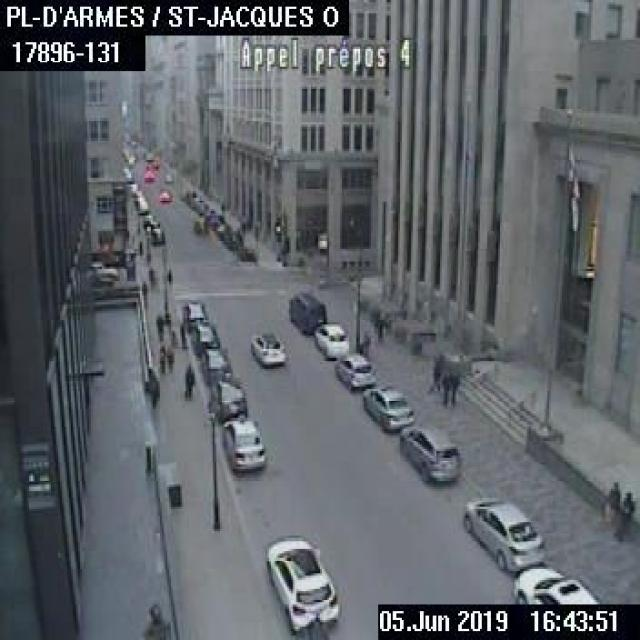pedestrian: (604, 476, 619, 530), (616, 491, 632, 540), (176, 318, 188, 349), (373, 311, 385, 342), (428, 354, 438, 390), (448, 372, 458, 406), (439, 370, 447, 405), (184, 364, 192, 398), (359, 330, 369, 352), (146, 264, 154, 289), (155, 314, 162, 340), (158, 343, 164, 373), (164, 264, 172, 286), (169, 328, 176, 347), (219, 198, 224, 213)
vehicle: (262, 533, 340, 631), (461, 496, 543, 571), (400, 424, 460, 481), (512, 566, 600, 604), (220, 414, 266, 471), (361, 384, 413, 429), (210, 370, 247, 420), (287, 291, 325, 333), (332, 351, 375, 388), (313, 321, 348, 357), (200, 340, 230, 381), (248, 334, 286, 364), (190, 319, 218, 355), (181, 298, 206, 330), (90, 262, 115, 278), (148, 227, 164, 244), (238, 246, 254, 262), (192, 215, 206, 232), (144, 219, 160, 231), (157, 188, 170, 202), (165, 346, 172, 371), (143, 212, 155, 226), (136, 200, 146, 213), (142, 169, 153, 180), (162, 172, 173, 182), (125, 155, 134, 164)
